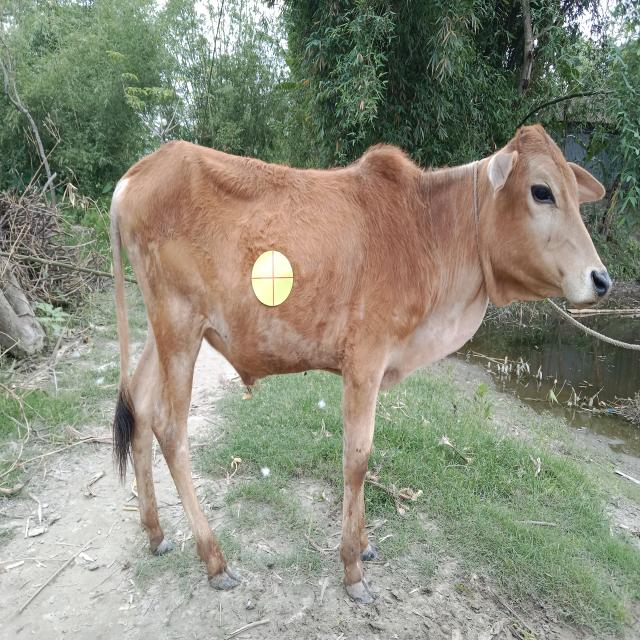badan_sapi: (112, 168, 421, 382)
sapi: (91, 110, 622, 614)
